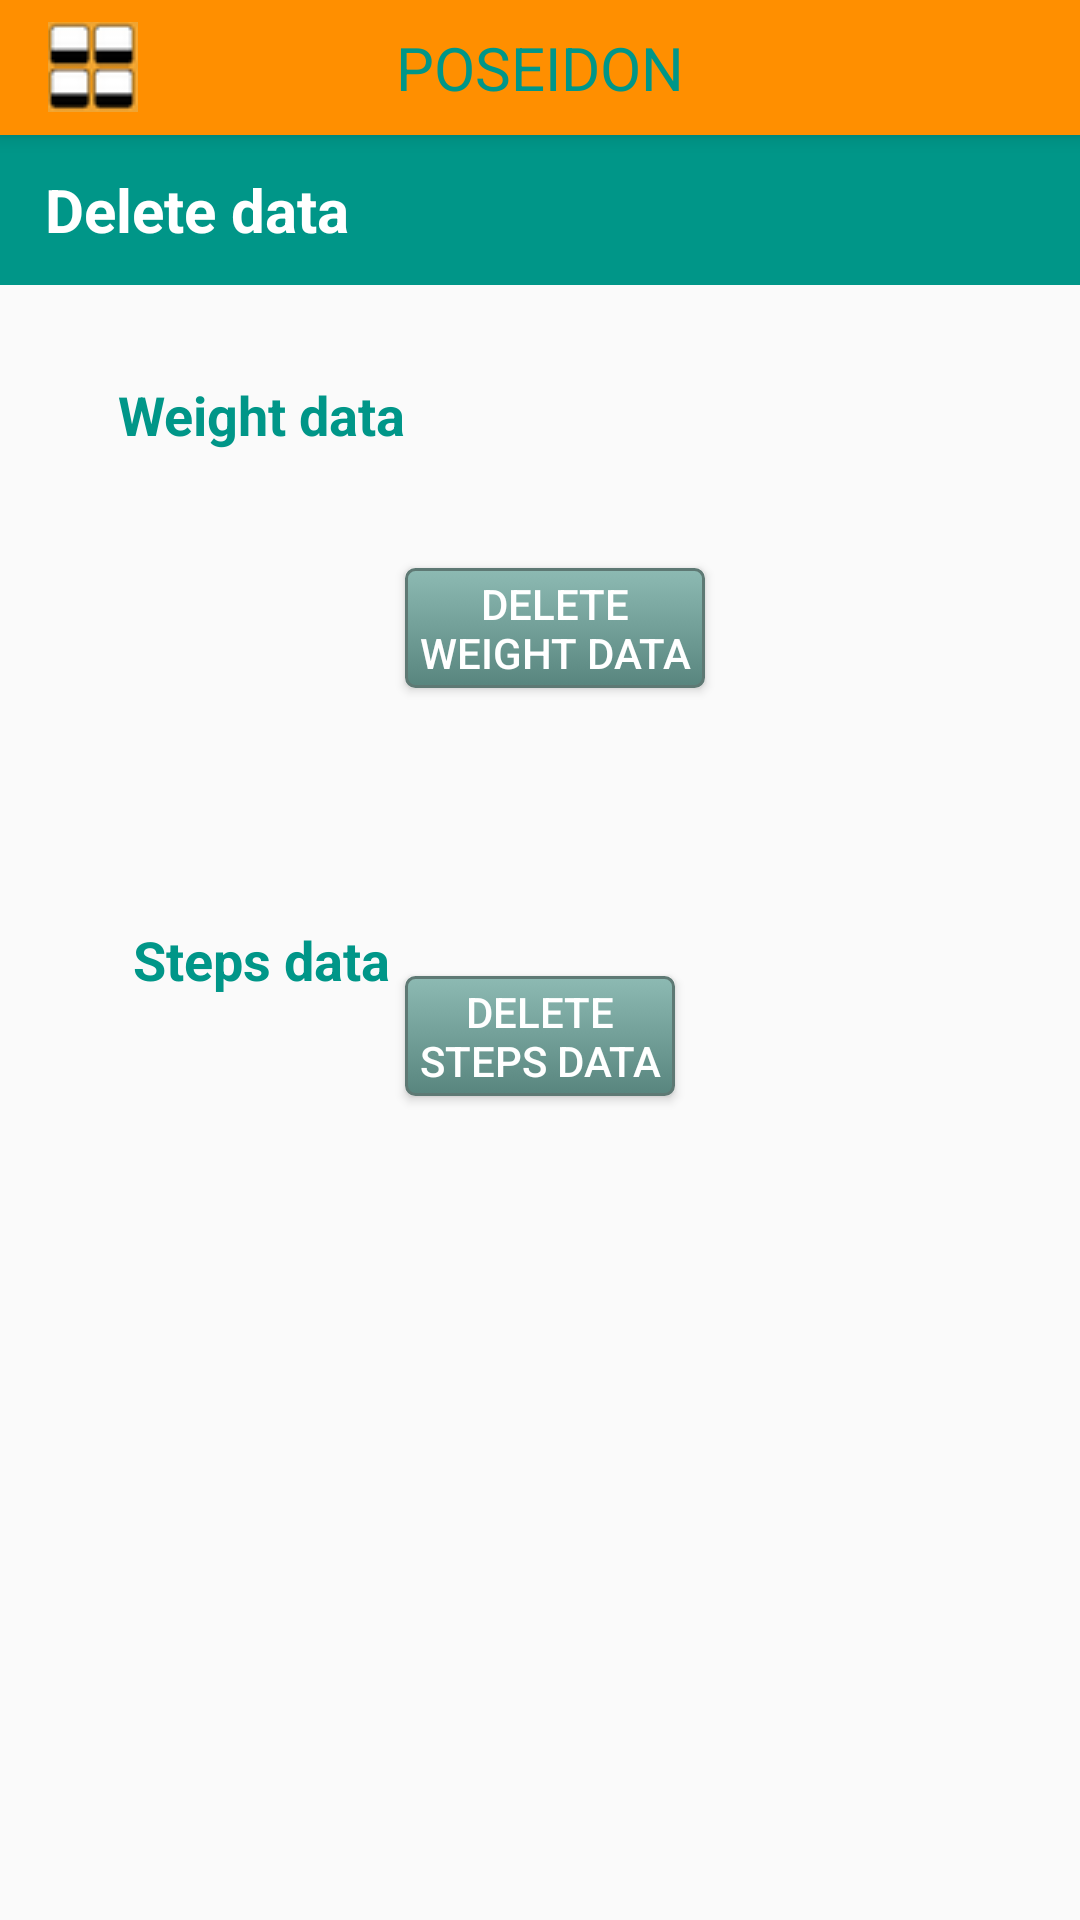

Screen size 1080px×1920px. Icon name, then its box in pixels as Rect(x1, y1, x2, y2):
homebutton: Rect(48, 22, 138, 112)
